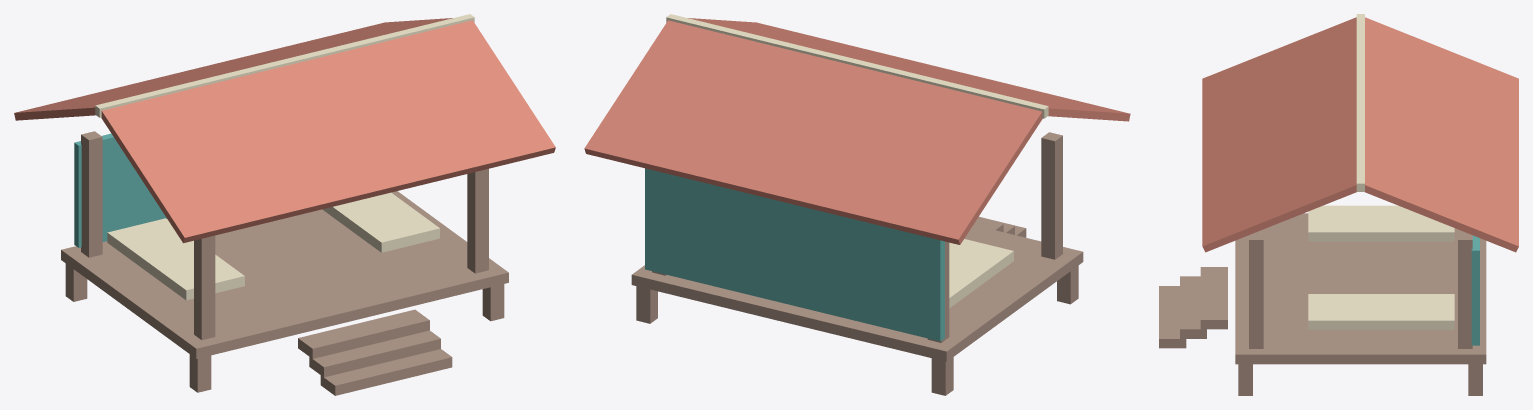
The model's file is 04_RescueShelter.glb.
The picture shows the model from 3 angles, left to right: view 1: azimuth 30°, elevation 25°; view 2: azimuth 150°, elevation 25°; view 3: azimuth 270°, elevation 25°; orthographic projection. The views are drawn at different scales.
Visible parts, largest first — view 1: 04_RescueShelter; view 2: 04_RescueShelter; view 3: 04_RescueShelter.
Boxes of the visible parts, x1,y1,x2,y2 form: 04_RescueShelter: [14, 14, 555, 395]; 04_RescueShelter: [584, 14, 1130, 395]; 04_RescueShelter: [1159, 14, 1518, 395].
Size of the model in its own units: 19.2 by 12.03 by 17.22.
